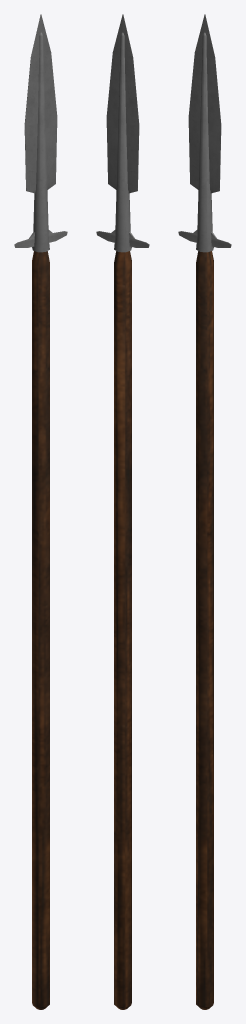
The model's file is spear.gltf.
The picture shows the model from 3 angles, left to right: view 1: azimuth 30°, elevation 25°; view 2: azimuth 150°, elevation 25°; view 3: azimuth 330°, elevation 25°; orthographic projection.
Parts seen in each view (by area): view 1: Spear; view 2: Spear; view 3: Spear.
Boxes of the visible parts, x1=… form: Spear: x1=14, y1=14, x2=67, y2=1009; Spear: x1=96, y1=14, x2=149, y2=1009; Spear: x1=178, y1=14, x2=231, y2=1009.
Bounding box in the file's own units: 0.0952 × 1.71 × 0.0293.
1 material, 1 textured.
